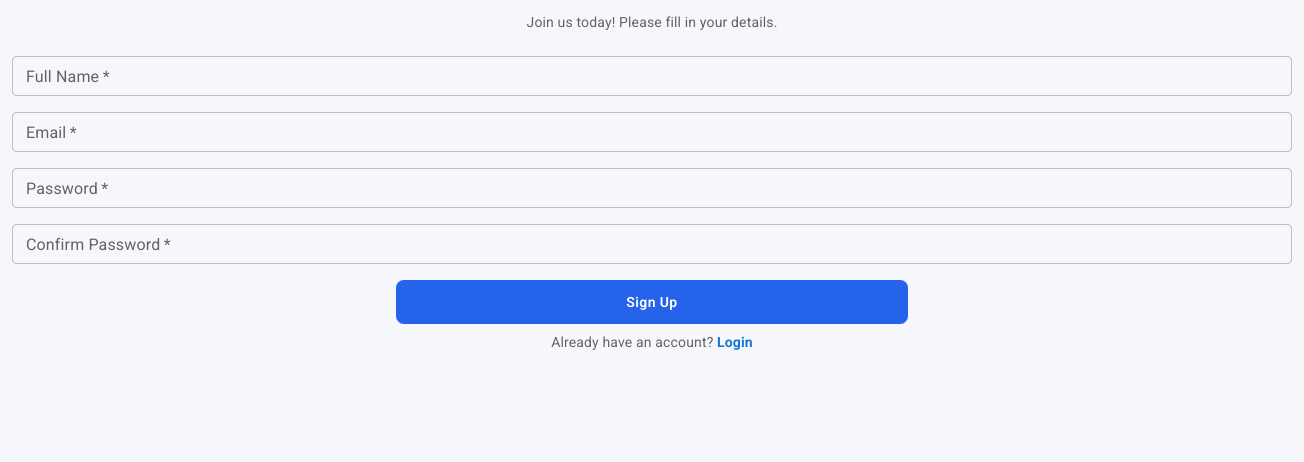
Scenario: shows validation errors when submitting empty form
The image size is (1304, 462).
What coordinates should you click on to do the following:
click the button "Sign Up"
I would click on:
 (652, 302)
Its box is [396,280,908,324].
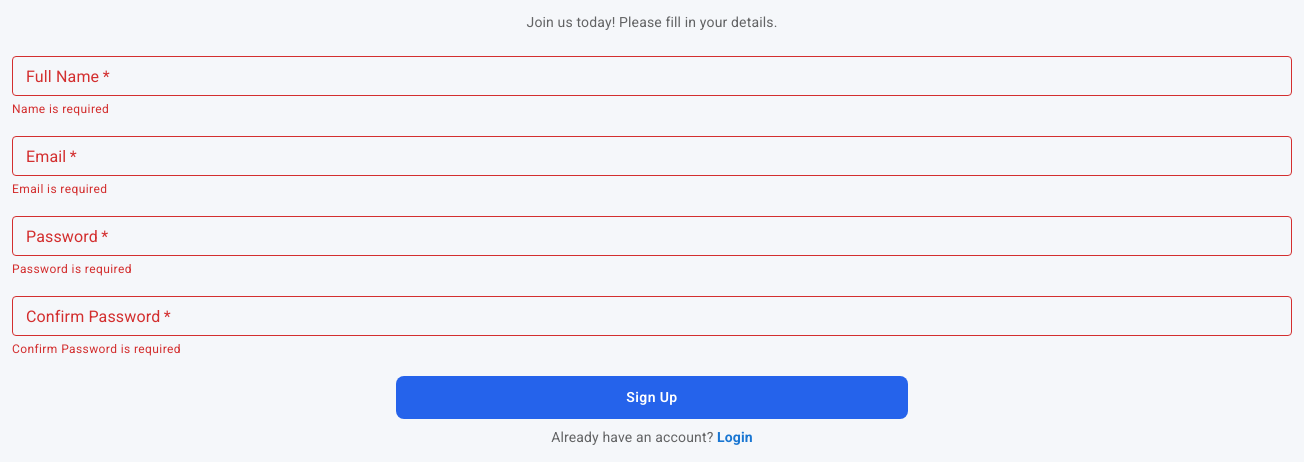
Expected: the text "Name is required" is shown, [12,102,109,116]
